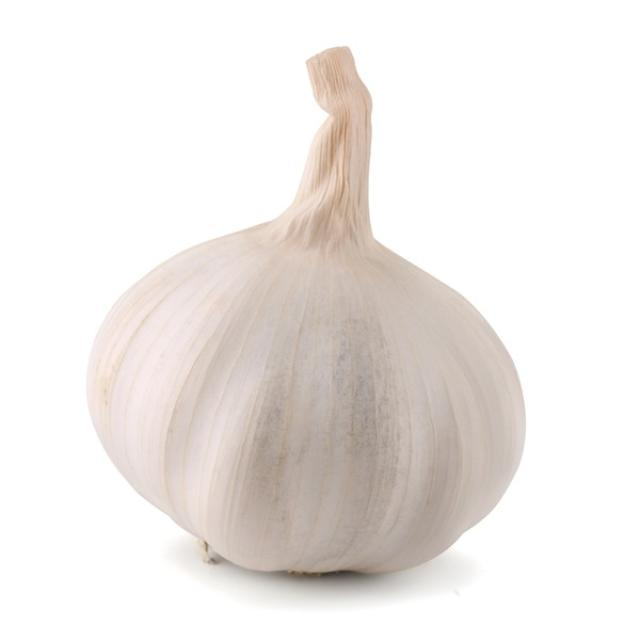garlic: (79, 224, 540, 590)
